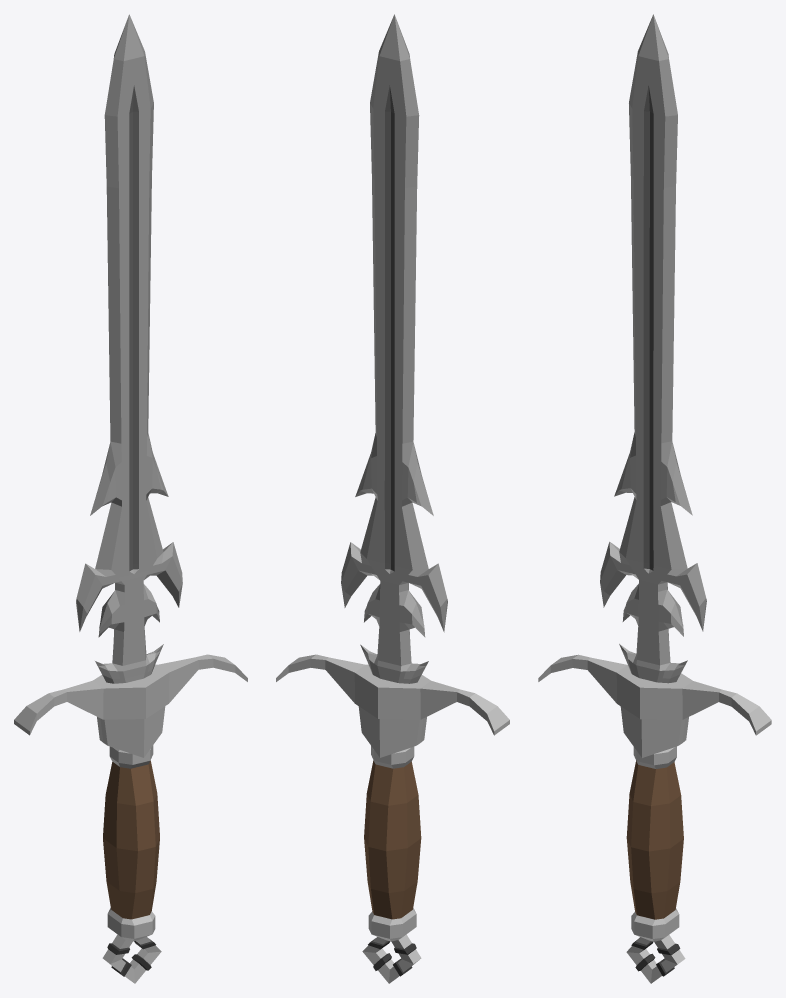
File: GAM0210001.fbx
The picture shows the model from 3 angles, left to right: view 1: azimuth 30°, elevation 25°; view 2: azimuth 150°, elevation 25°; view 3: azimuth 330°, elevation 25°; orthographic projection.
Parts seen in each view (by area): view 1: smGAM0210001; view 2: smGAM0210001; view 3: smGAM0210001.
Part boxes in pixels (bbox=[...]): smGAM0210001: bbox=[14, 14, 247, 983]; smGAM0210001: bbox=[276, 14, 509, 983]; smGAM0210001: bbox=[538, 14, 771, 983].
Size of the model in its own units: 25.61 by 109 by 6.26.
Materials: 1 (1 with a texture image).
